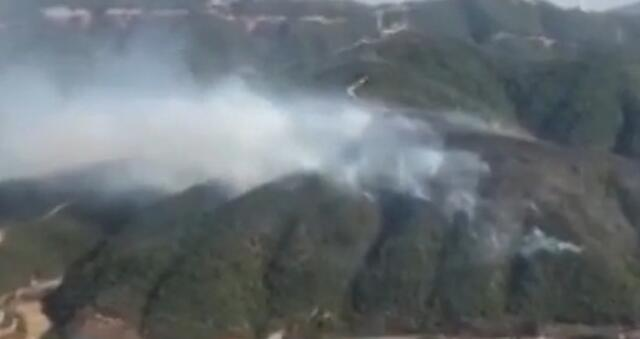yanwu: (1, 11, 585, 259)
